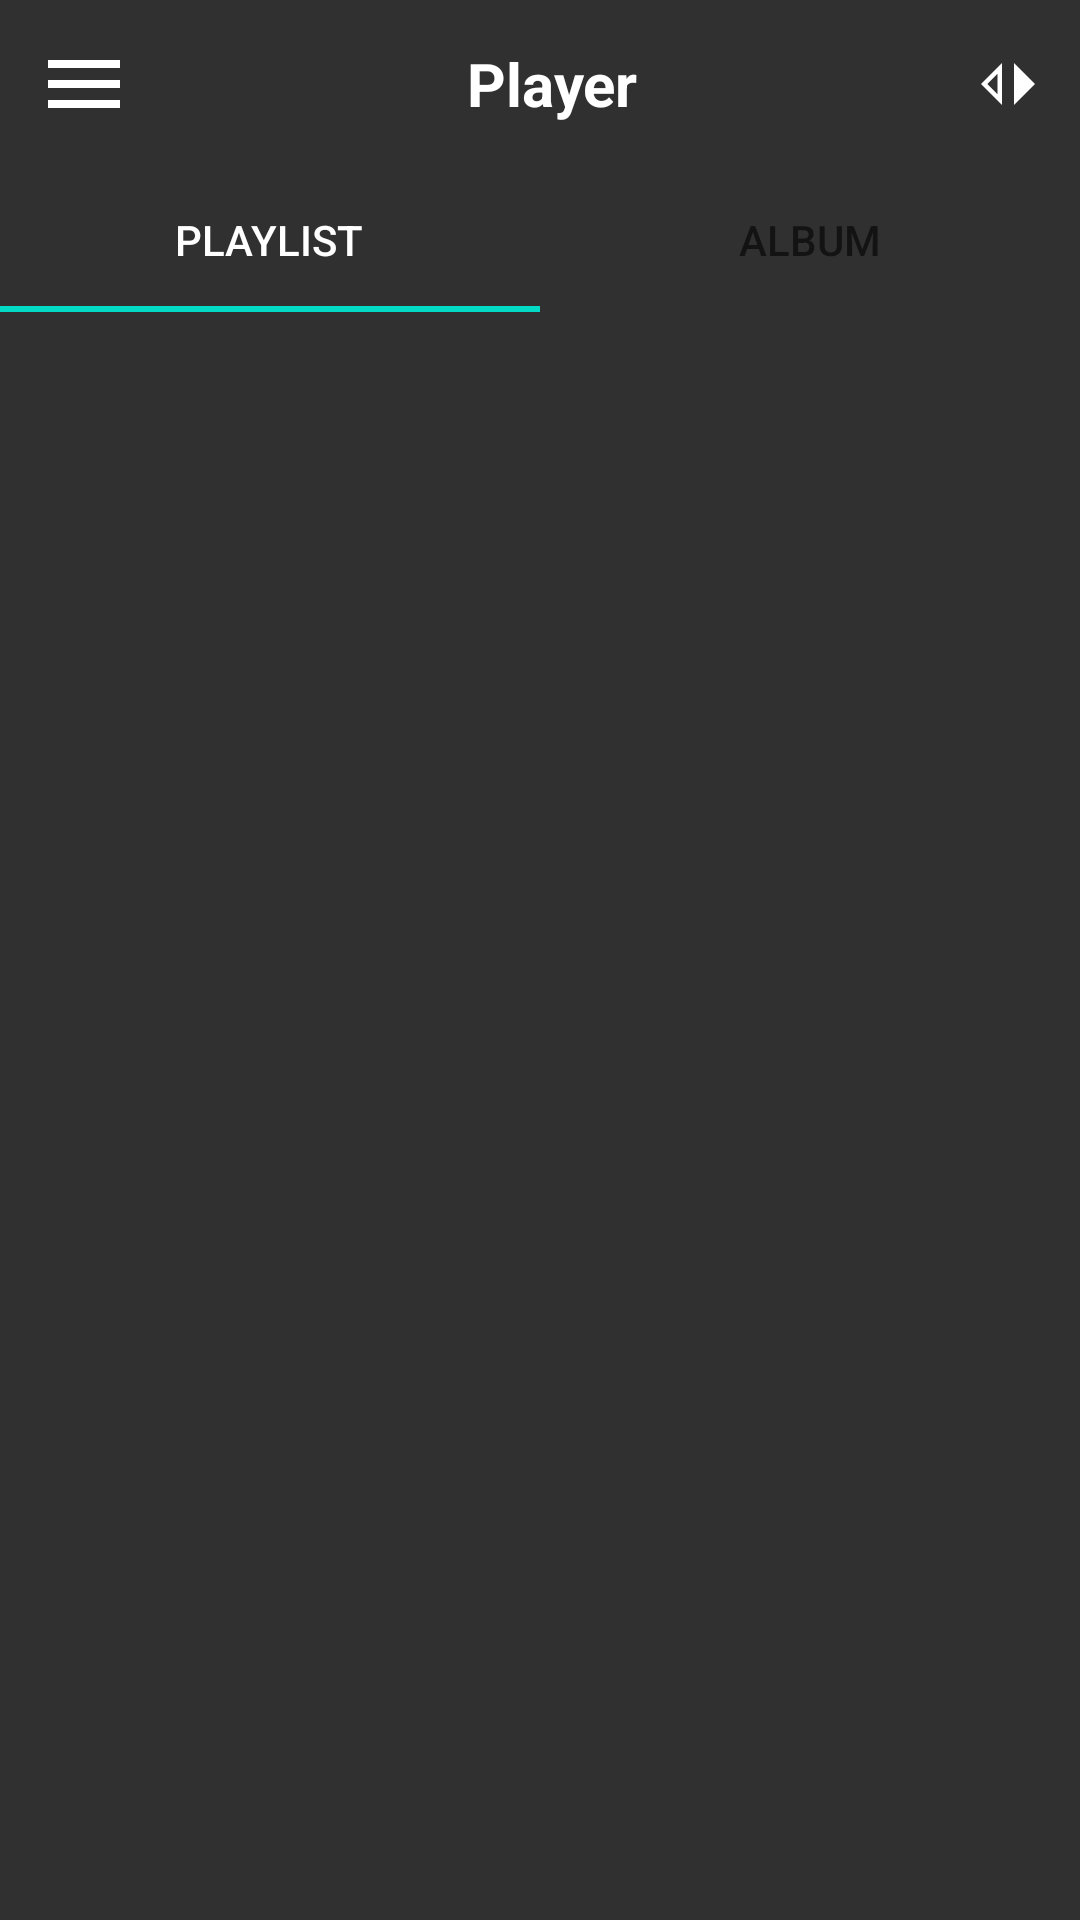

Icon click points for this 1080px x 1920px phone screenshot, format point (x, y):
menu: point (84, 84)
switch: point (1008, 84)
